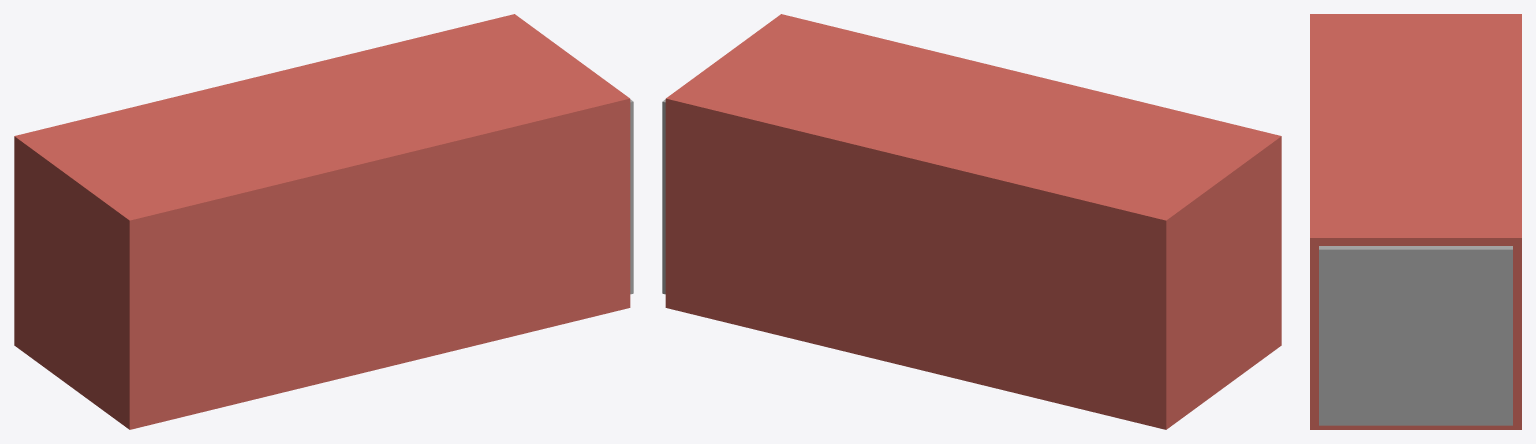
File: cargo_container_shell.glb
The picture shows the model from 3 angles, left to right: view 1: azimuth 30°, elevation 25°; view 2: azimuth 150°, elevation 25°; view 3: azimuth 270°, elevation 25°; orthographic projection. The views are drawn at different scales.
Visible parts, largest first — view 1: container, contdoor; view 2: container, contdoor; view 3: container, contdoor.
Part boxes in pixels (bbox=[...]): container: bbox=[14, 14, 630, 429]; contdoor: bbox=[630, 99, 633, 294]; container: bbox=[665, 14, 1281, 429]; contdoor: bbox=[662, 99, 665, 294]; container: bbox=[1310, 14, 1521, 429]; contdoor: bbox=[1319, 246, 1512, 425].
Size of the model in its own units: 6.1 by 2.4 by 2.4.
